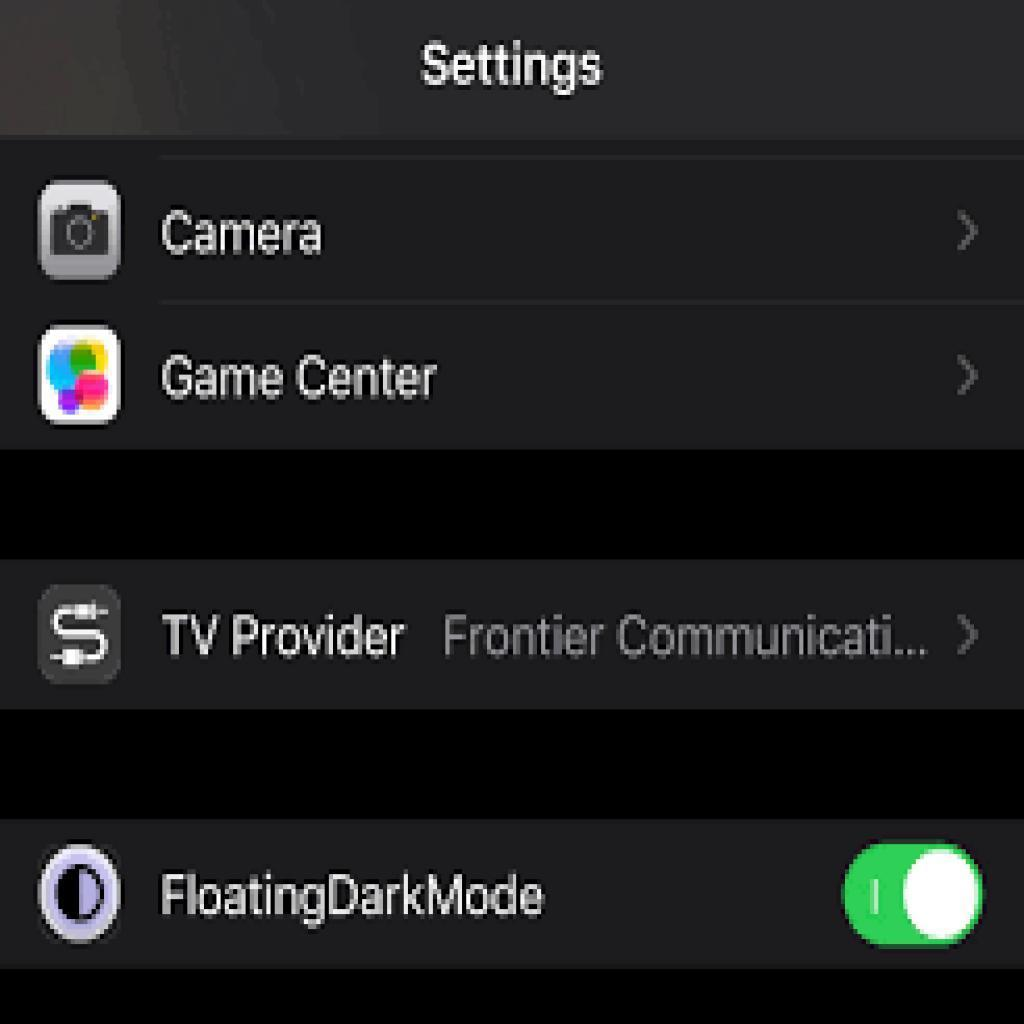icon: (36, 325, 125, 426), (39, 587, 125, 687), (38, 182, 123, 283), (40, 847, 125, 940), (948, 204, 991, 265), (944, 347, 990, 404), (951, 607, 994, 667)
label: (161, 850, 556, 930), (160, 347, 446, 415), (160, 605, 405, 671), (158, 200, 335, 270)
switch: (840, 842, 988, 952)
